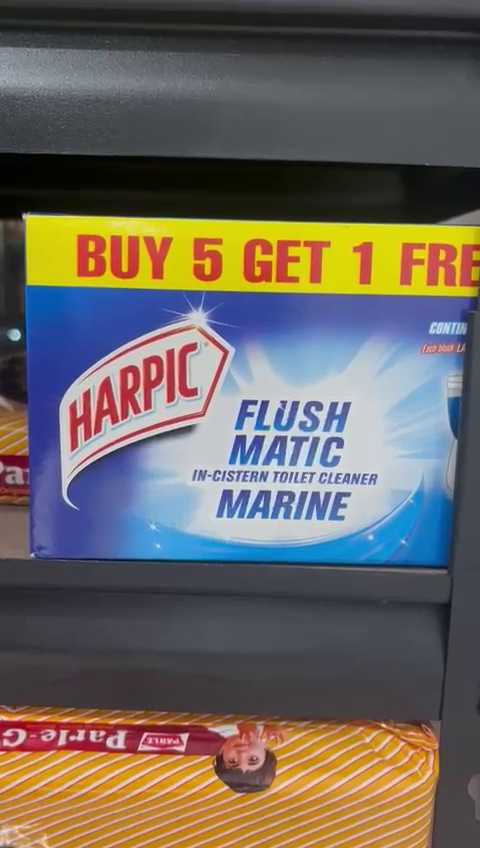Harpic: (24, 214, 480, 563)
